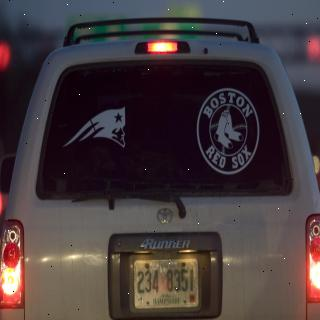license: (130, 255, 203, 316)
